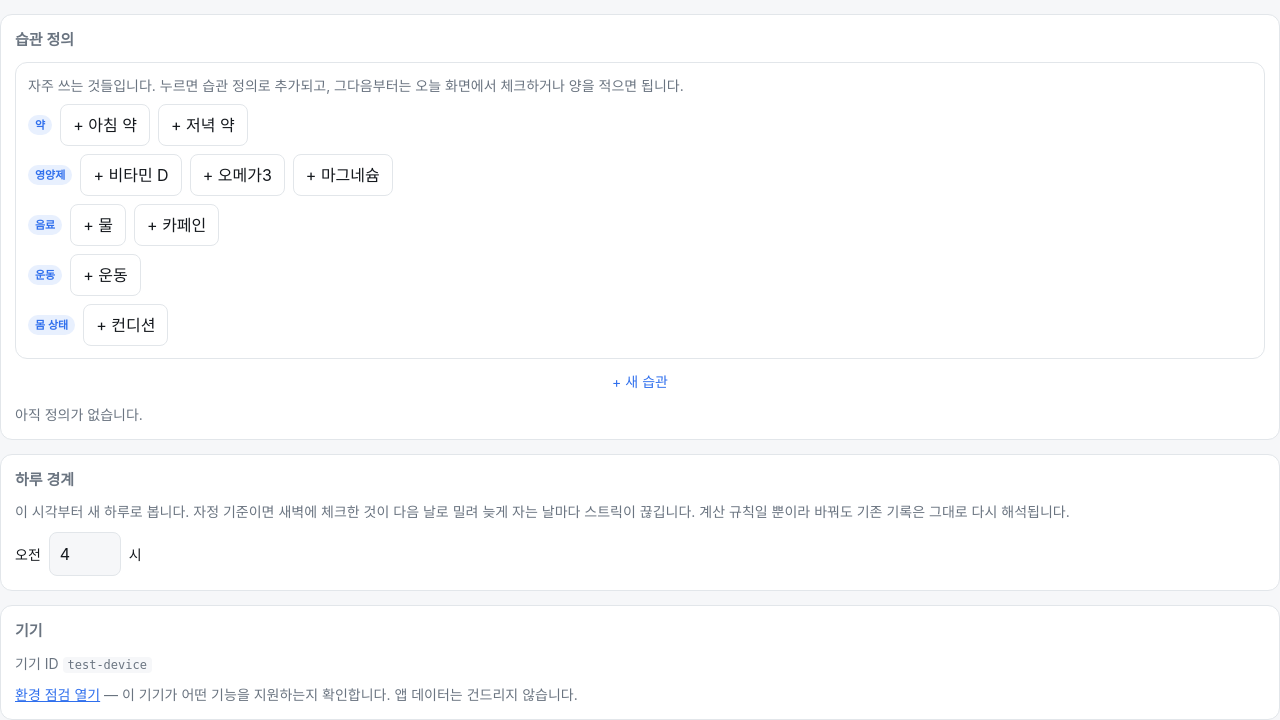
Test: 설정 — 지표 만들기 › 아무 옵션도 건드리지 않으면 지금과 똑같은 정의가 만들어진다
(page scrolled)
Click the button "+ 새 습관" at (640, 381), box x1=15 y1=369 x2=1265 y2=394
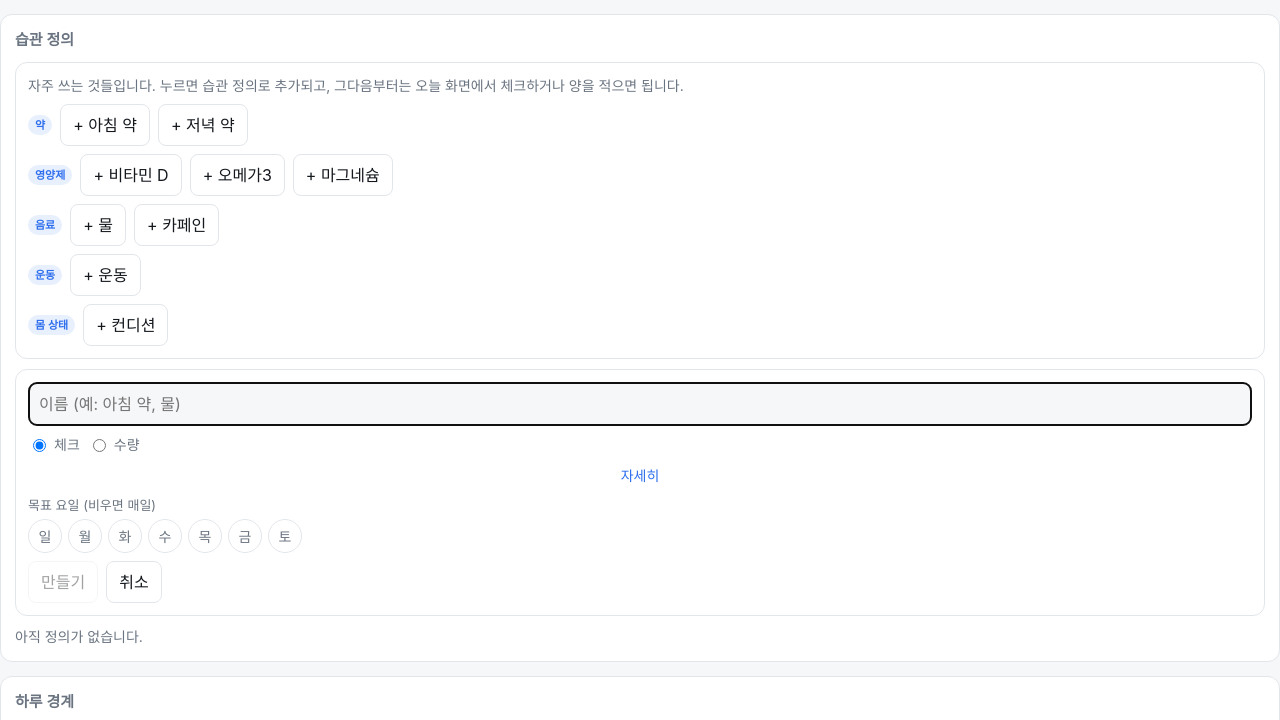
Type "컨디션" into the field named "습관 이름" at (640, 404), box x1=28 y1=382 x2=1252 y2=426
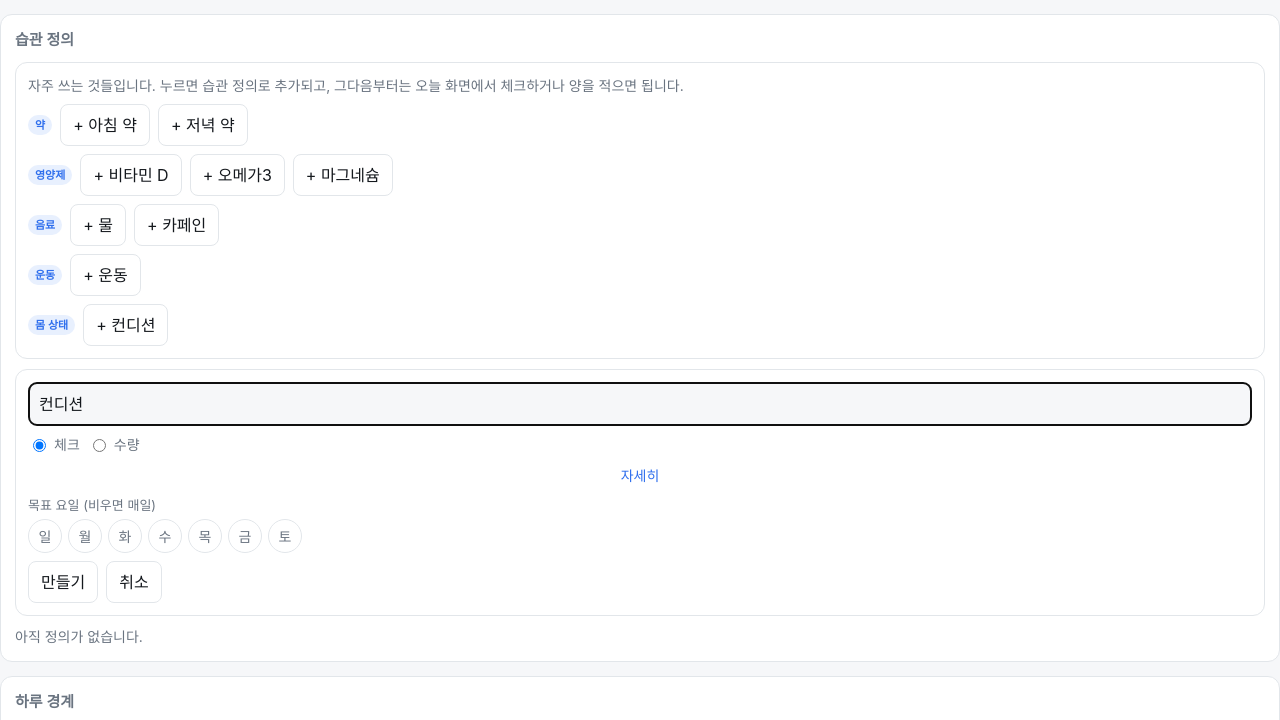
Click the button "만들기" at (63, 582), box x1=28 y1=561 x2=98 y2=603
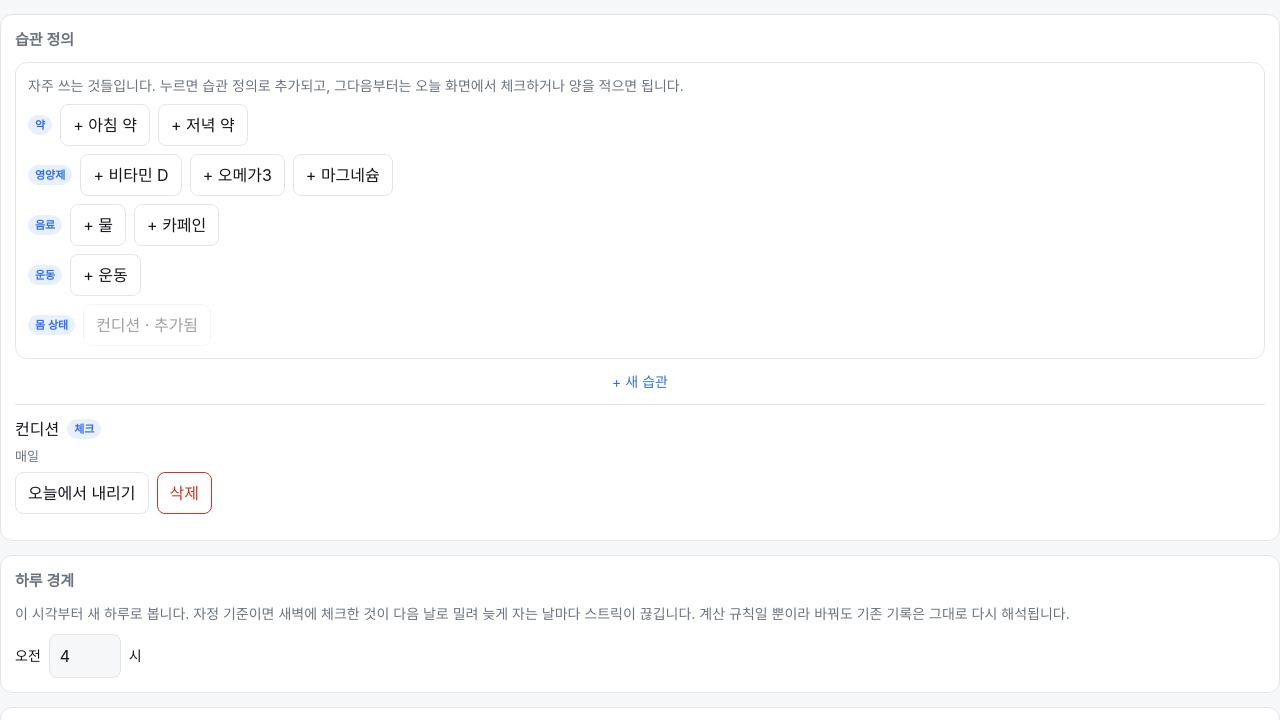
Check: the text "컨디션" is shown, box x1=15 y1=417 x2=59 y2=441
